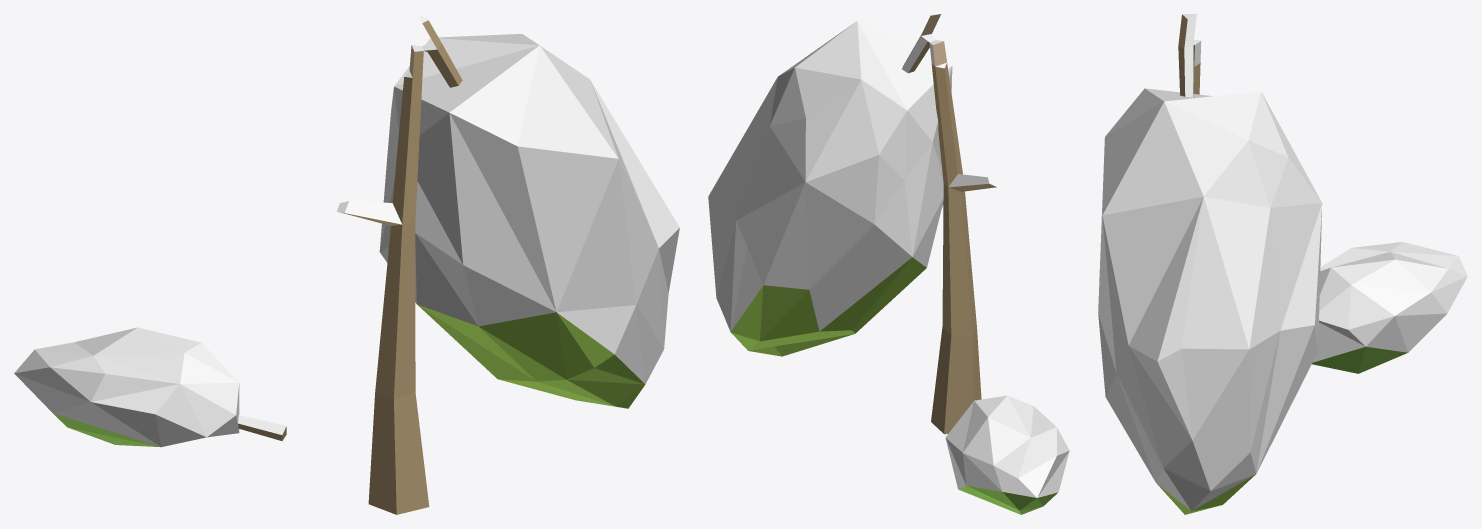
The model's file is Random_Tree_crk_m_Snow_02_LOD.fbx.
3 views of the same model, side by side, from view 1: azimuth 30°, elevation 25°; view 2: azimuth 150°, elevation 25°; view 3: azimuth 270°, elevation 25° (orthographic). The views are drawn at different scales.
Visible parts, largest first — view 1: Random_Tree_crk_m_Snow_02_LOD0; view 2: Random_Tree_crk_m_Snow_02_LOD0; view 3: Random_Tree_crk_m_Snow_02_LOD0.
Boxes of the visible parts, bbox=[...] form: Random_Tree_crk_m_Snow_02_LOD0: bbox=[14, 14, 679, 514]; Random_Tree_crk_m_Snow_02_LOD0: bbox=[708, 14, 1069, 514]; Random_Tree_crk_m_Snow_02_LOD0: bbox=[1098, 14, 1467, 514].
Size of what is drawn, in the model's own units: 557 by 495 by 374.
